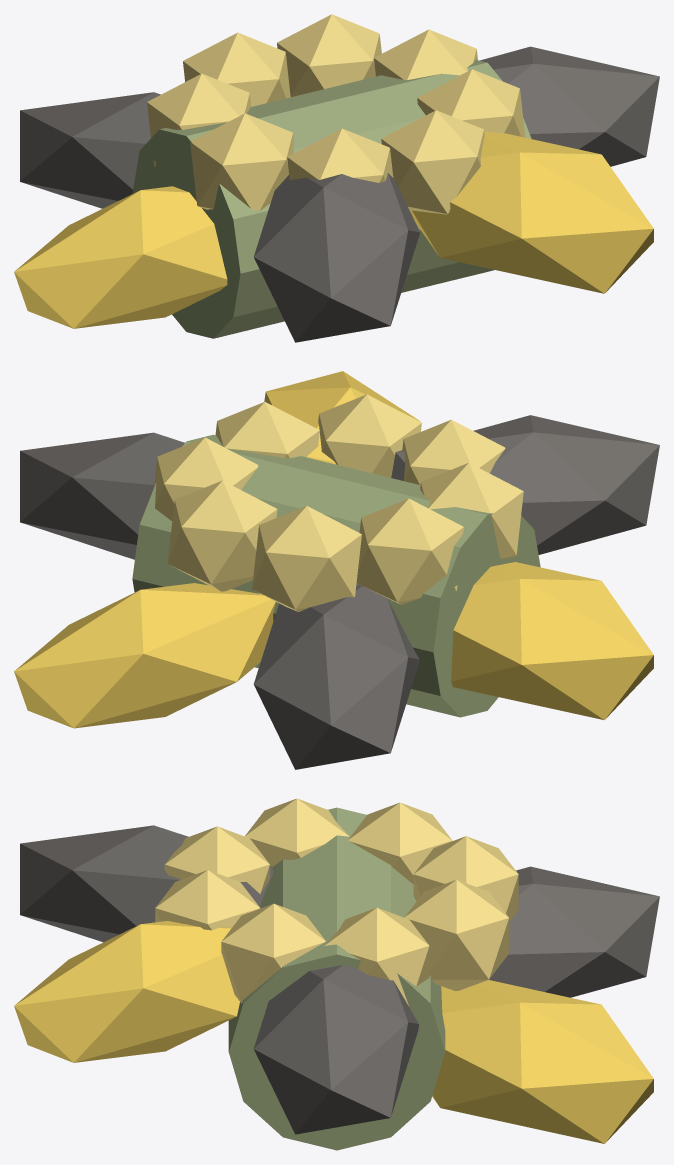
File: food_seed_mix.glb
The picture shows the model from 3 angles, top to bottom: view 1: azimuth 30°, elevation 25°; view 2: azimuth 150°, elevation 25°; view 3: azimuth 270°, elevation 25°; orthographic projection.
Parts seen in each view (by area): view 1: Icosphere.005, seed_mix_core, Icosphere.004, Icosphere.003, Icosphere, Icosphere.002, Icosphere.010, Icosphere.012, Icosphere.007, Icosphere.008, Icosphere.013, Icosphere.009 (+2 smaller); view 2: Icosphere.001, Icosphere.003, seed_mix_core, Icosphere.002, Icosphere.004, Icosphere, Icosphere.008, Icosphere.007, Icosphere.009, Icosphere.012, Icosphere.010, Icosphere.006 (+3 smaller); view 3: Icosphere.001, seed_mix_core, Icosphere.005, Icosphere, Icosphere.002, Icosphere.004, Icosphere.007, Icosphere.013, Icosphere.006, Icosphere.008, Icosphere.009, Icosphere.012 (+2 smaller).
Boxes of the visible parts, x1=… form: Icosphere.005: x1=410, y1=131, x2=653, y2=293; seed_mix_core: x1=132, y1=59, x2=531, y2=338; Icosphere.004: x1=254, y1=173, x2=420, y2=342; Icosphere.003: x1=14, y1=186, x2=227, y2=328; Icosphere: x1=480, y1=46, x2=659, y2=166; Icosphere.002: x1=20, y1=92, x2=160, y2=208; Icosphere.010: x1=190, y1=113, x2=293, y2=211; Icosphere.012: x1=381, y1=110, x2=484, y2=214; Icosphere.007: x1=277, y1=14, x2=381, y2=97; Icosphere.008: x1=183, y1=32, x2=290, y2=106; Icosphere.013: x1=417, y1=69, x2=525, y2=137; Icosphere.009: x1=147, y1=73, x2=251, y2=166; Icosphere.001: x1=14, y1=583, x2=275, y2=728; Icosphere.003: x1=451, y1=562, x2=653, y2=720; seed_mix_core: x1=132, y1=434, x2=540, y2=717; Icosphere.002: x1=253, y1=585, x2=419, y2=769; Icosphere.004: x1=391, y1=415, x2=659, y2=554; Icosphere: x1=20, y1=432, x2=184, y2=559; Icosphere.008: x1=252, y1=506, x2=361, y2=611; Icosphere.007: x1=167, y1=480, x2=277, y2=591; Icosphere.009: x1=356, y1=498, x2=463, y2=604; Icosphere.012: x1=318, y1=394, x2=421, y2=477; Icosphere.010: x1=420, y1=463, x2=523, y2=559; Icosphere.006: x1=154, y1=437, x2=258, y2=520; Icosphere.001: x1=432, y1=980, x2=653, y2=1143; seed_mix_core: x1=228, y1=807, x2=445, y2=1150; Icosphere.005: x1=14, y1=921, x2=239, y2=1062; Icosphere: x1=253, y1=965, x2=418, y2=1134; Icosphere.002: x1=489, y1=866, x2=659, y2=997; Icosphere.004: x1=20, y1=825, x2=273, y2=942; Icosphere.007: x1=404, y1=879, x2=509, y2=990; Icosphere.013: x1=221, y1=903, x2=325, y2=1003; Icosphere.006: x1=324, y1=907, x2=429, y2=1005; Icosphere.008: x1=413, y1=836, x2=518, y2=921; Icosphere.009: x1=348, y1=802, x2=452, y2=884; Icosphere.012: x1=155, y1=870, x2=260, y2=930.
Size of the model in its own units: 0.0191 by 0.0064 by 0.0167.
